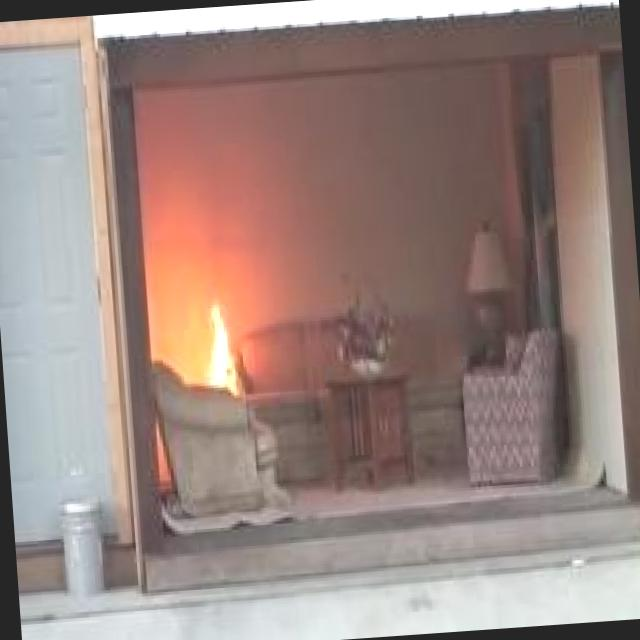fire: (182, 286, 251, 416)
